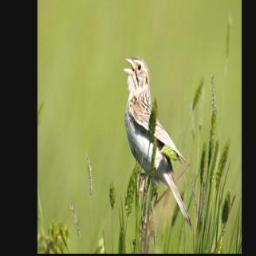Sparrow: (122, 54, 191, 227)
